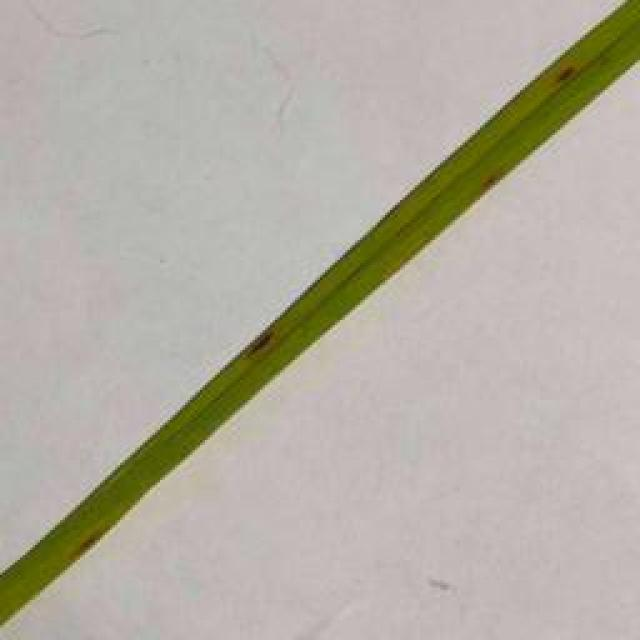Brown_Spot: (226, 304, 282, 362), (63, 520, 121, 570), (544, 46, 582, 95), (474, 165, 511, 203)
